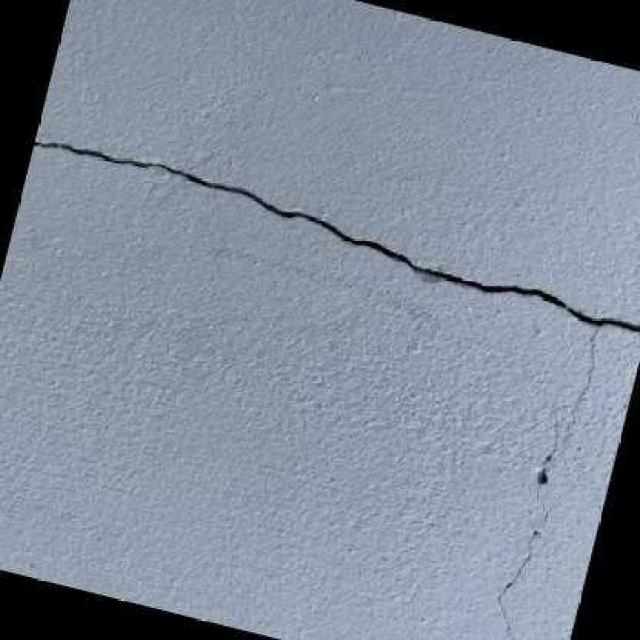D00: (33, 137, 640, 332)
